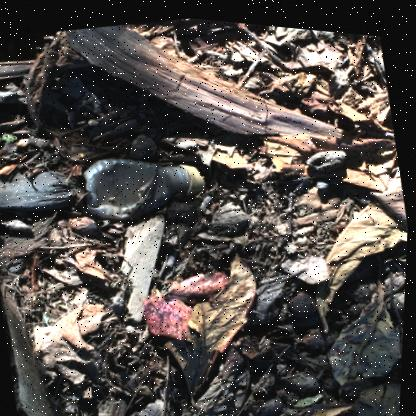Plastic: (85, 156, 206, 217)
Waste: (177, 159, 206, 190)
